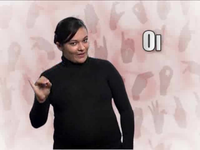oi: (28, 72, 51, 102)
